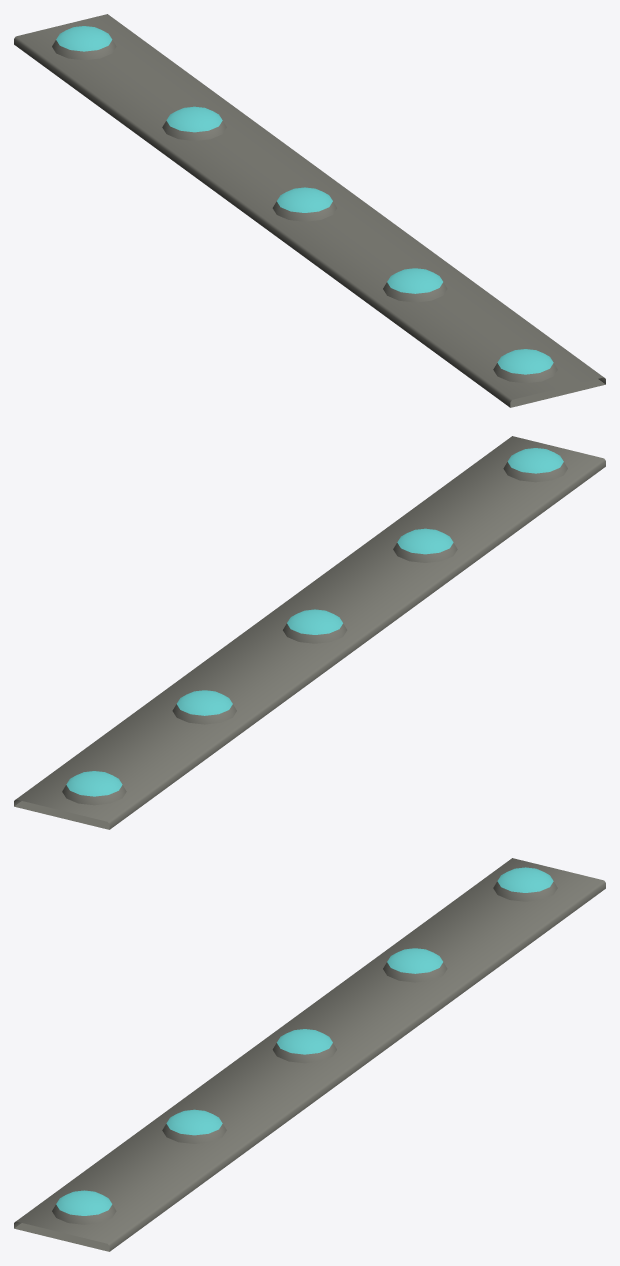
The model's file is CA_115_116_cosmodrome_floor_limits_var1.glb.
The picture shows the model from 3 angles, top to bottom: view 1: azimuth 30°, elevation 25°; view 2: azimuth 150°, elevation 25°; view 3: azimuth 330°, elevation 25°; orthographic projection.
Visible parts, largest first — view 1: cosmodrome_floor; view 2: cosmodrome_floor; view 3: cosmodrome_floor.
Part boxes in pixels (left/top/right/bottom): cosmodrome_floor: left=14, top=14, right=605, bottom=407; cosmodrome_floor: left=14, top=436, right=605, bottom=829; cosmodrome_floor: left=14, top=858, right=605, bottom=1251.
Bounding box in the file's own units: 0.75 × 0.1765 × 6.75.
